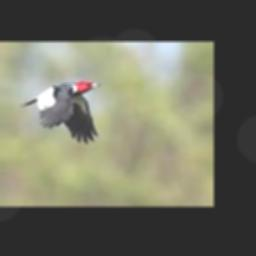Woodpecker: (19, 80, 101, 143)
